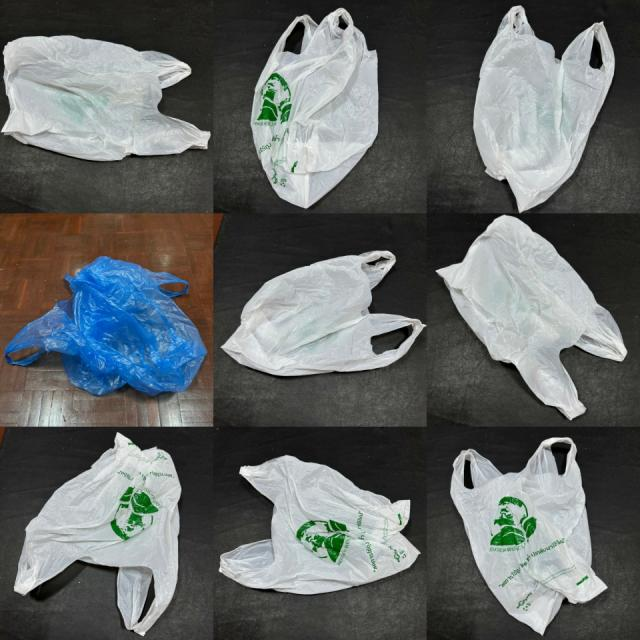Single-layer Plastic: (436, 215, 626, 419), (14, 434, 181, 634), (450, 438, 606, 633), (474, 6, 615, 211), (5, 256, 206, 395), (220, 456, 419, 594), (2, 36, 210, 161), (222, 251, 425, 376), (251, 9, 378, 208)
